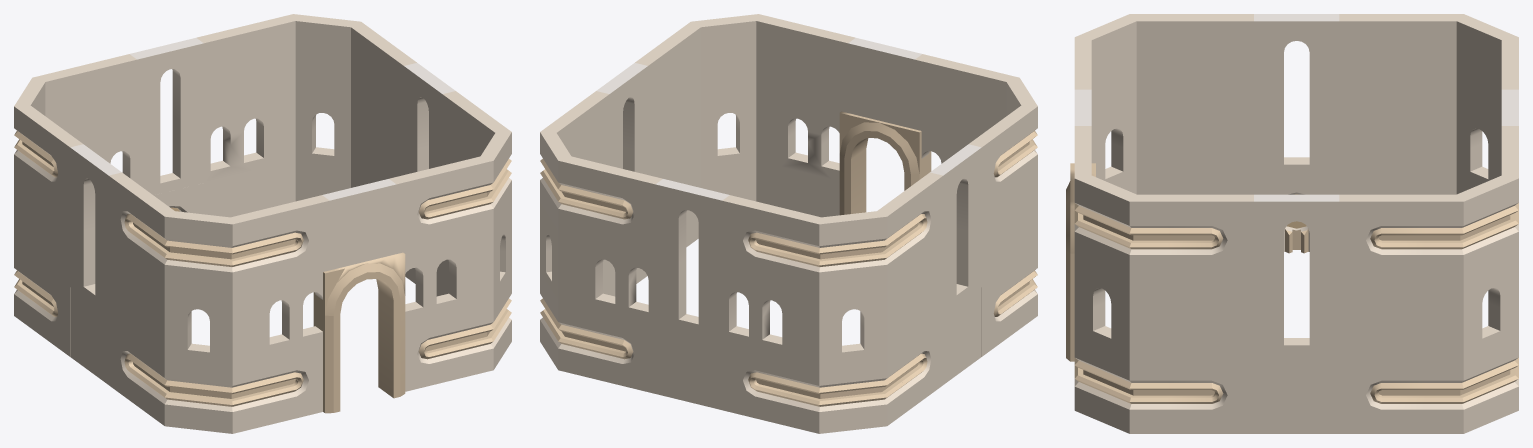
File: Shack.glb
3 renders of one model, left to right at view 1: azimuth 30°, elevation 25°; view 2: azimuth 150°, elevation 25°; view 3: azimuth 270°, elevation 25°, orthographic. The views are drawn at different scales.
Visible parts, largest first — view 1: object2.134, object1.470, object2.128, object2.147, object2.140, object1.502, object1.508, object1.532, object1.527, object2.136, object2.138, object2.142 (+27 smaller); view 2: object1.470, object2.143, object2.125, object2.137, object1.511, object1.505, object1.532, object2.144, object2.142, object2.138, object1.527, object2.136 (+27 smaller); view 3: object1.525, object1.532, object2.137, object2.140, object2.131, object2.122, object2.135, object2.141, object2.145, object2.139, object1.505, object1.508 (+23 smaller).
Boxes of the visible parts, left/top/right/bottom form: object2.134: left=147, top=200, right=262, bottom=294; object1.470: left=130, top=38, right=203, bottom=195; object2.128: left=147, top=344, right=262, bottom=433; object2.147: left=313, top=252, right=405, bottom=413; object2.140: left=263, top=14, right=378, bottom=106; object1.502: left=147, top=274, right=262, bottom=363; object1.508: left=270, top=91, right=365, bottom=176; object1.532: left=70, top=144, right=121, bottom=314; object1.527: left=322, top=179, right=396, bottom=270; object2.136: left=256, top=195, right=329, bottom=286; object2.138: left=389, top=162, right=463, bottom=253; object2.142: left=196, top=21, right=270, bottom=112; object1.470: left=655, top=179, right=729, bottom=340; object2.143: left=789, top=200, right=904, bottom=294; object2.125: left=789, top=344, right=904, bottom=433; object2.137: left=673, top=14, right=788, bottom=106; object1.511: left=789, top=274, right=904, bottom=363; object1.505: left=686, top=91, right=781, bottom=176; object1.532: left=930, top=144, right=981, bottom=314; object2.144: left=722, top=195, right=795, bottom=286; object2.142: left=588, top=162, right=662, bottom=253; object2.138: left=781, top=21, right=855, bottom=112; object1.527: left=848, top=38, right=921, bottom=129; object2.136: left=915, top=54, right=988, bottom=142; object1.525: left=1254, top=194, right=1339, bottom=356; object1.532: left=1254, top=14, right=1339, bottom=175; object2.137: left=1074, top=162, right=1168, bottom=278; object2.140: left=1425, top=162, right=1518, bottom=278; object2.131: left=1074, top=333, right=1168, bottom=433; object2.122: left=1425, top=333, right=1518, bottom=433; object2.135: left=1168, top=14, right=1253, bottom=98; object2.141: left=1339, top=194, right=1424, bottom=278; object2.145: left=1339, top=14, right=1424, bottom=98; object2.139: left=1168, top=194, right=1253, bottom=278; object1.505: left=1074, top=256, right=1168, bottom=356; object1.508: left=1425, top=256, right=1518, bottom=356.
Size of the model in its own units: 5.2 by 3 by 5.3.
